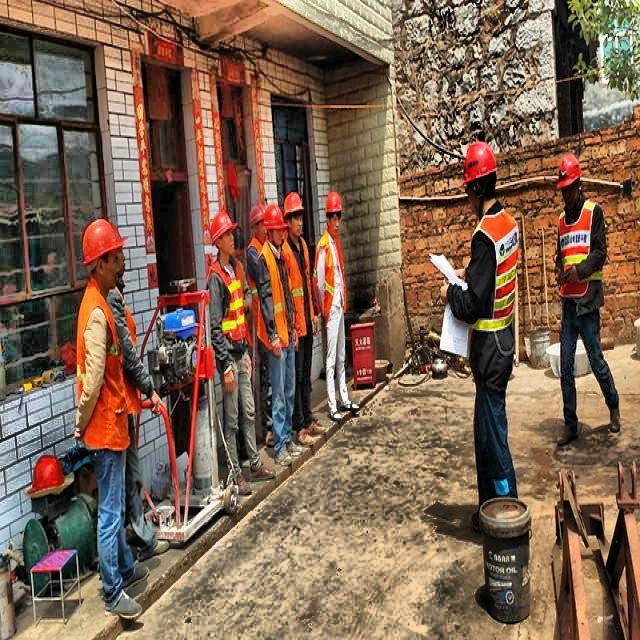person: (74, 211, 146, 618), (450, 142, 526, 512), (550, 150, 608, 446), (317, 186, 358, 418)
